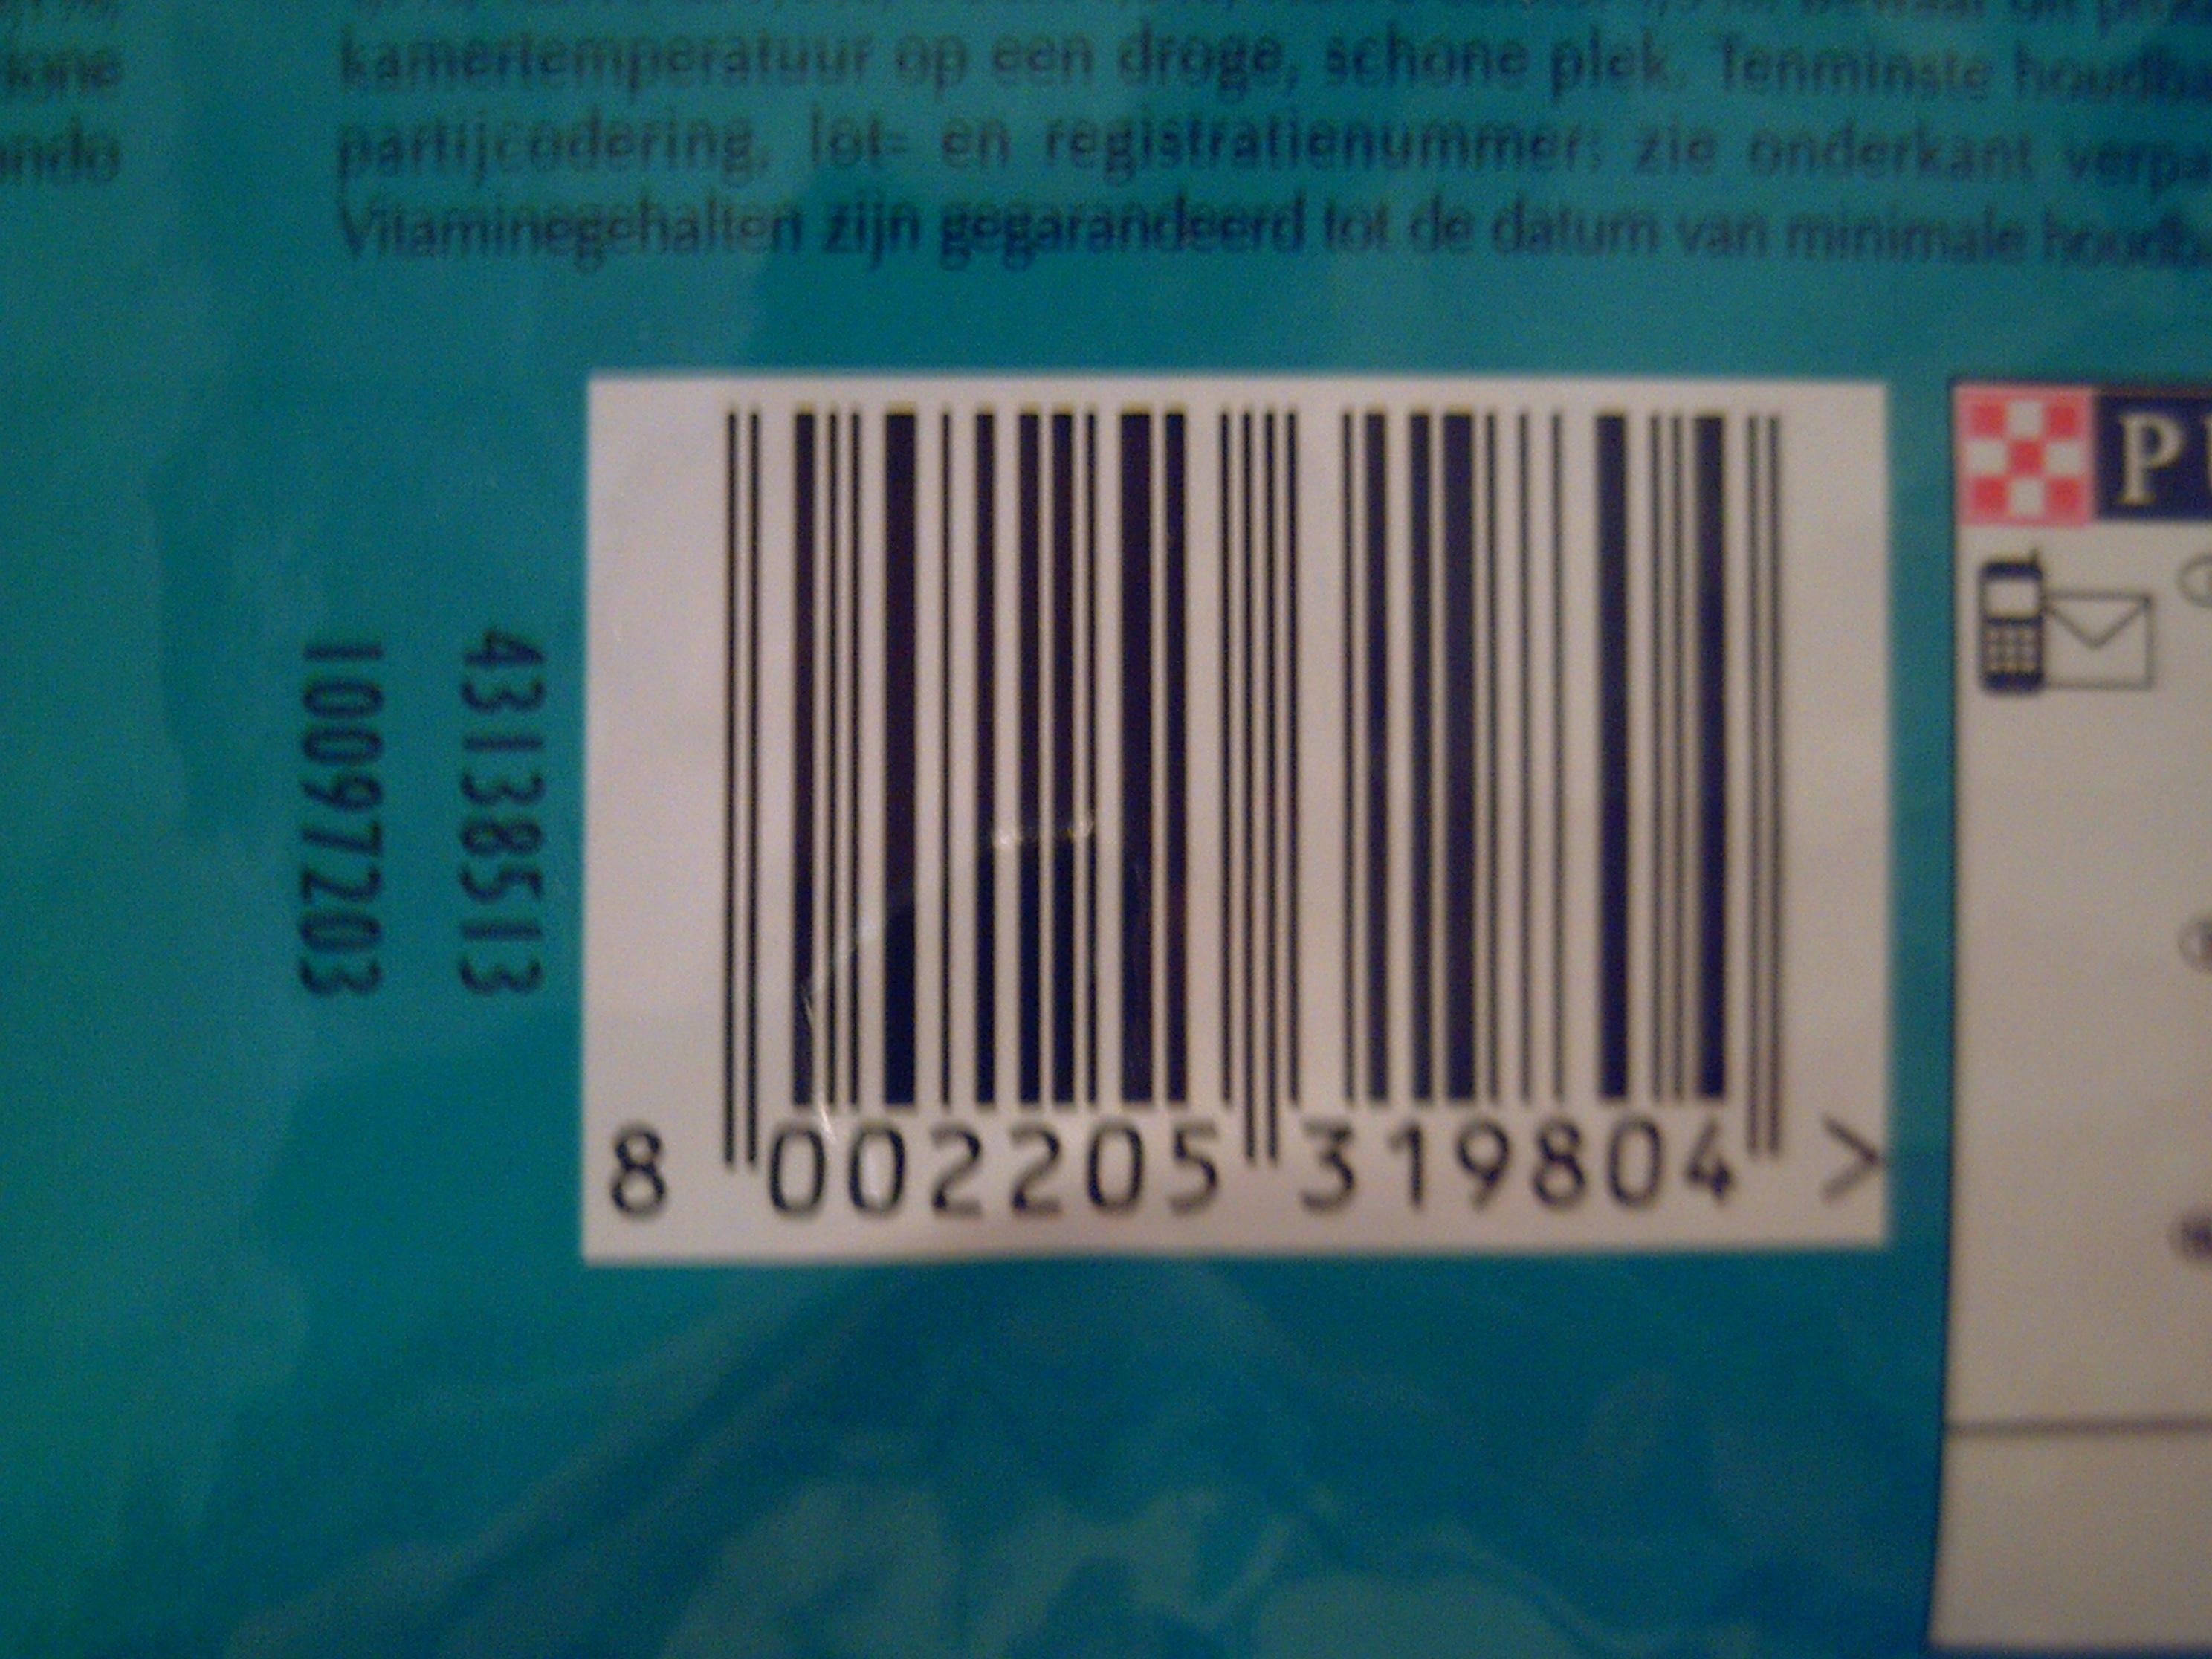barcode: (592, 382, 1888, 1246)
